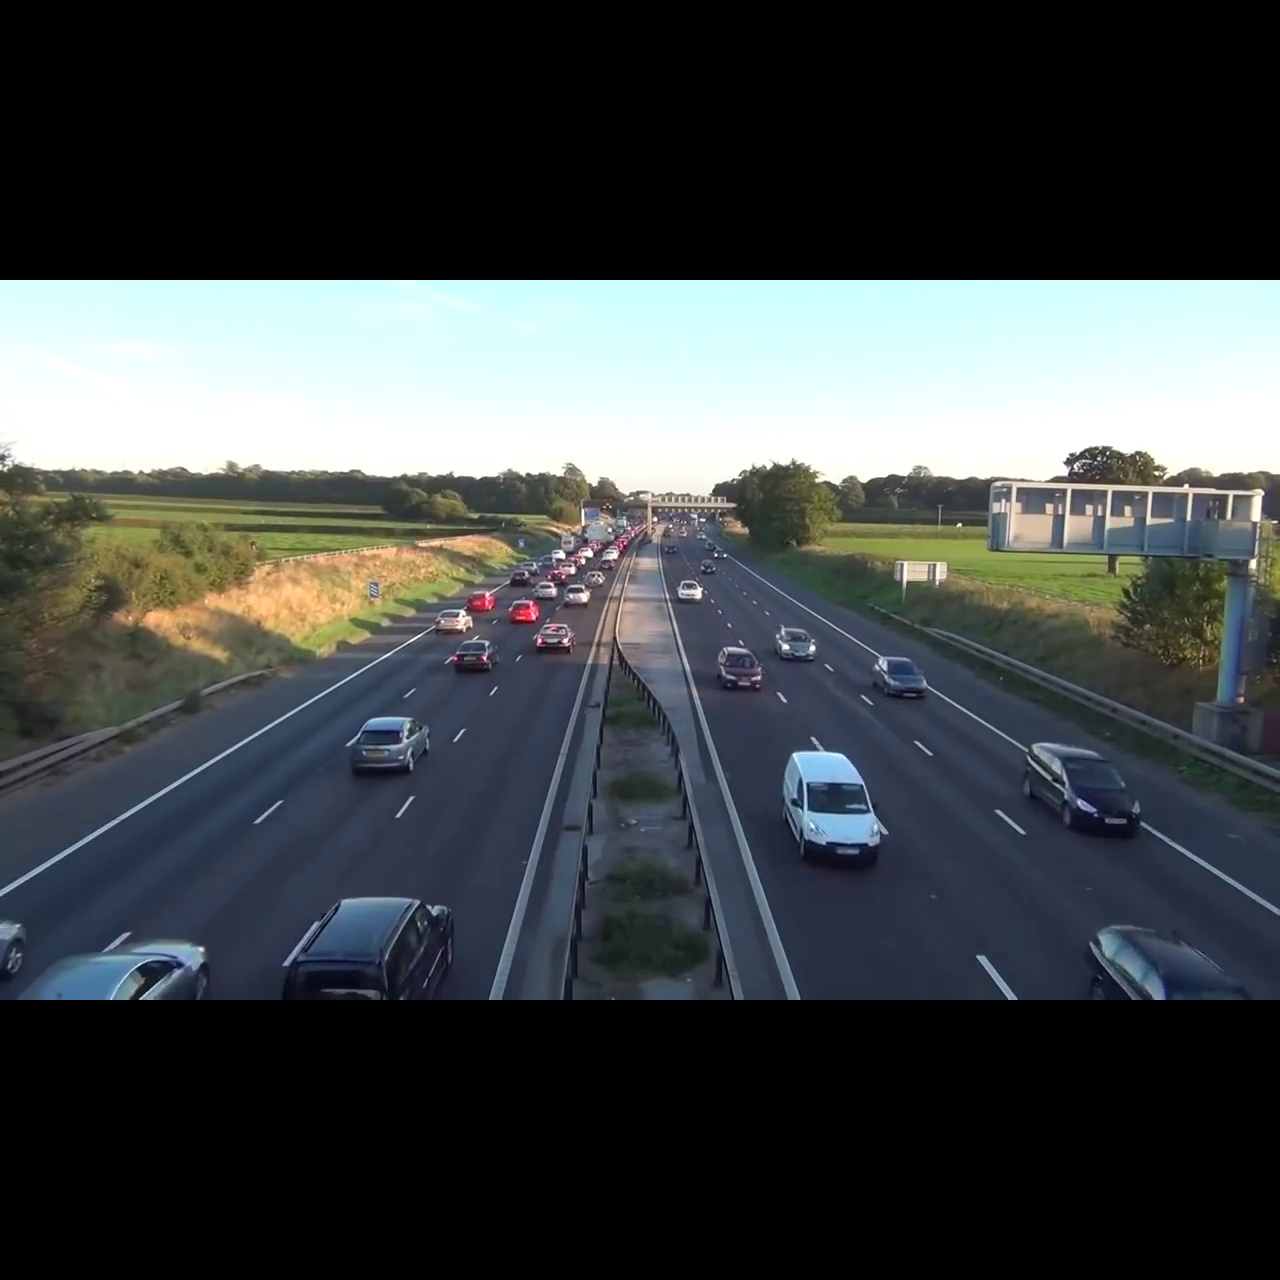vehicle: (277, 890, 461, 1000), (1081, 913, 1265, 1000), (778, 743, 887, 874), (1016, 737, 1148, 840), (15, 933, 220, 998), (347, 712, 435, 778), (866, 651, 937, 703), (715, 640, 765, 694), (772, 624, 818, 663), (451, 638, 501, 674), (535, 622, 580, 654), (433, 608, 475, 635), (505, 599, 542, 626), (465, 588, 498, 612), (674, 580, 704, 605), (561, 584, 592, 608), (532, 581, 559, 601)
